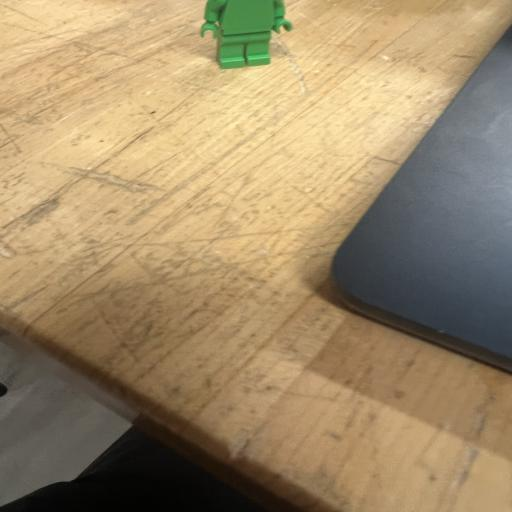green-lego-minifigure-detector: (200, 0, 293, 69)
